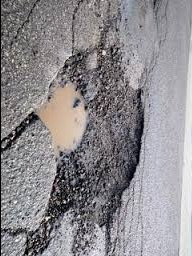pothole: (35, 42, 150, 228)
